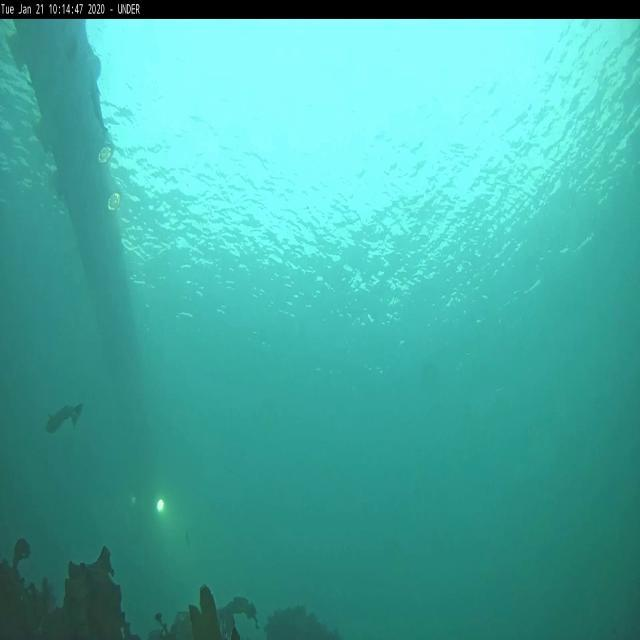fish: (44, 402, 82, 432), (89, 76, 108, 136), (184, 532, 192, 548)
